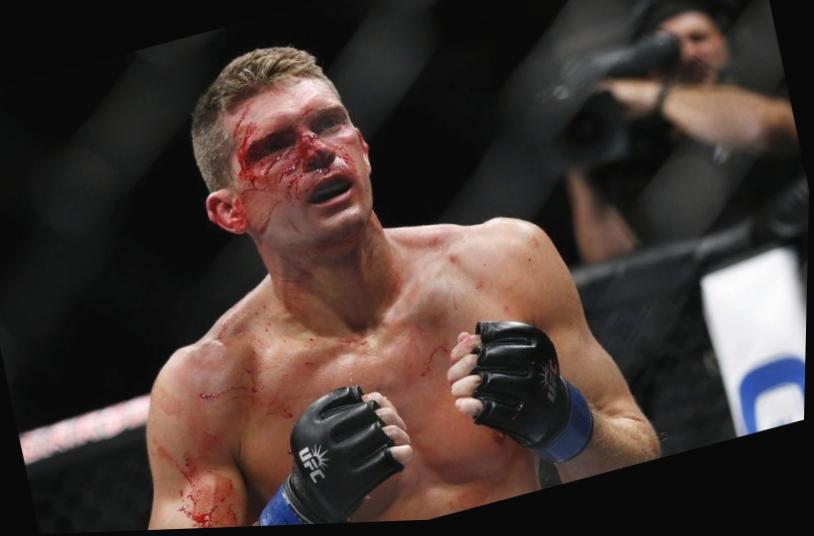Fire: (207, 100, 370, 240)
